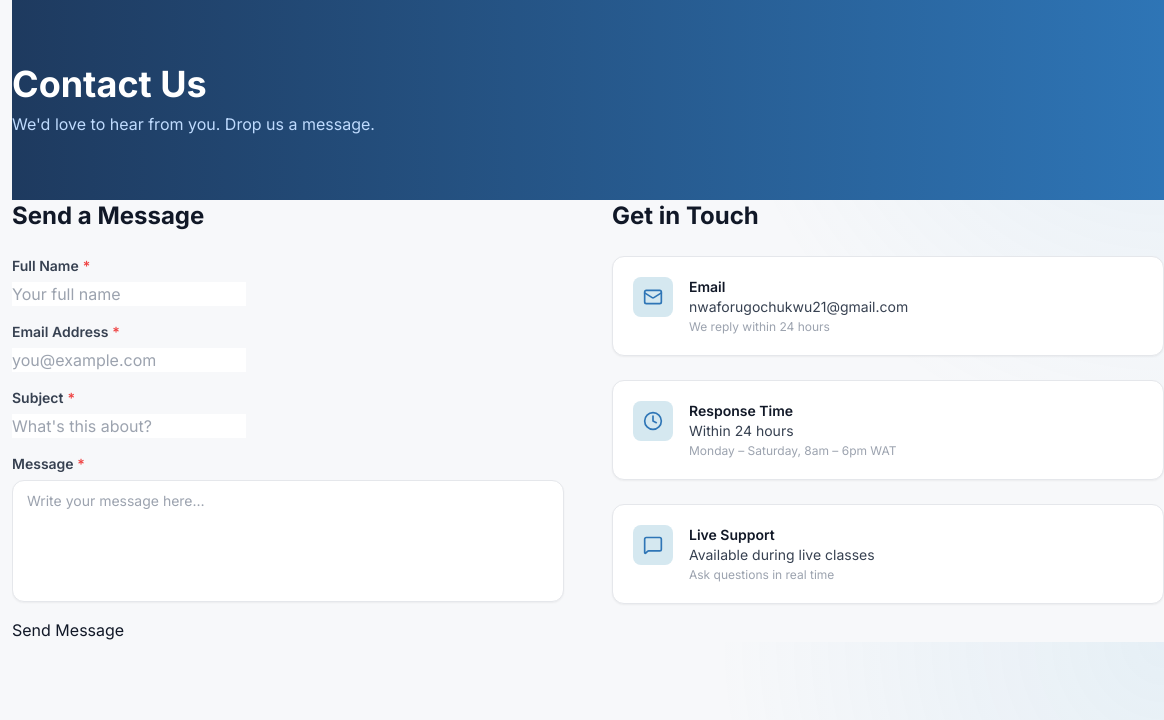
ContactPage › shows message length validation error
Type "Test User" into the field labelled "Full Name*" at (129, 294), box [12,282,246,306]
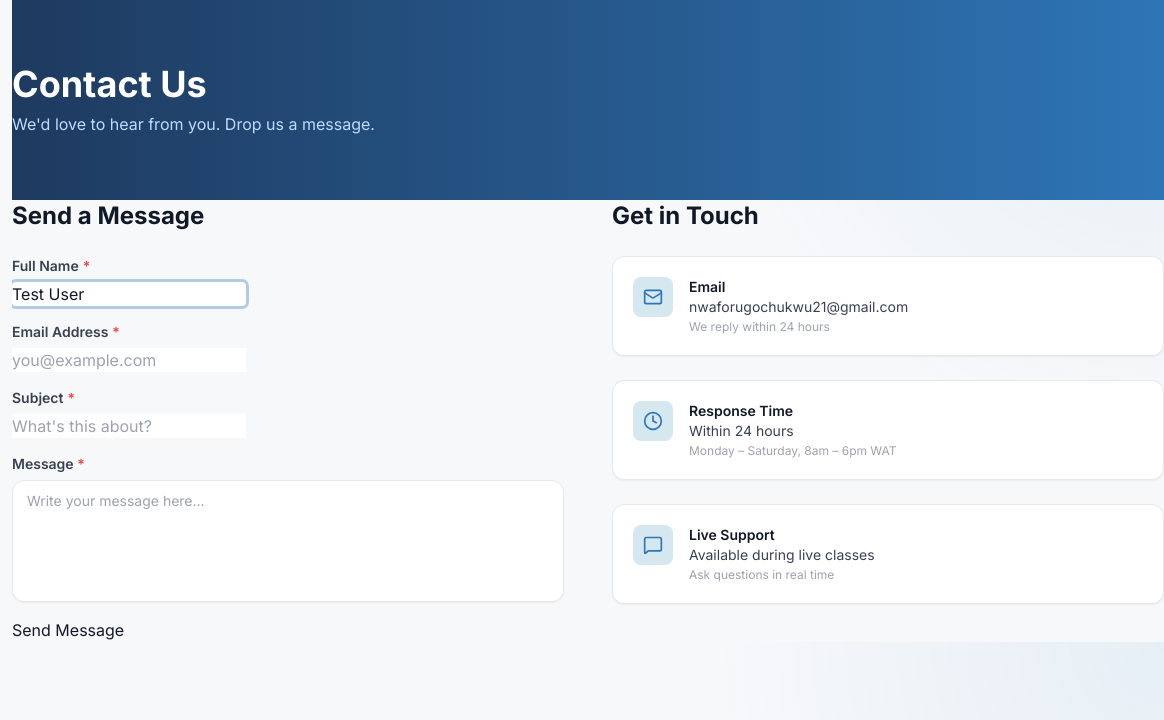
Type "test@example.com" into the field labelled "Email Address*" at (129, 360), box [12,348,246,372]
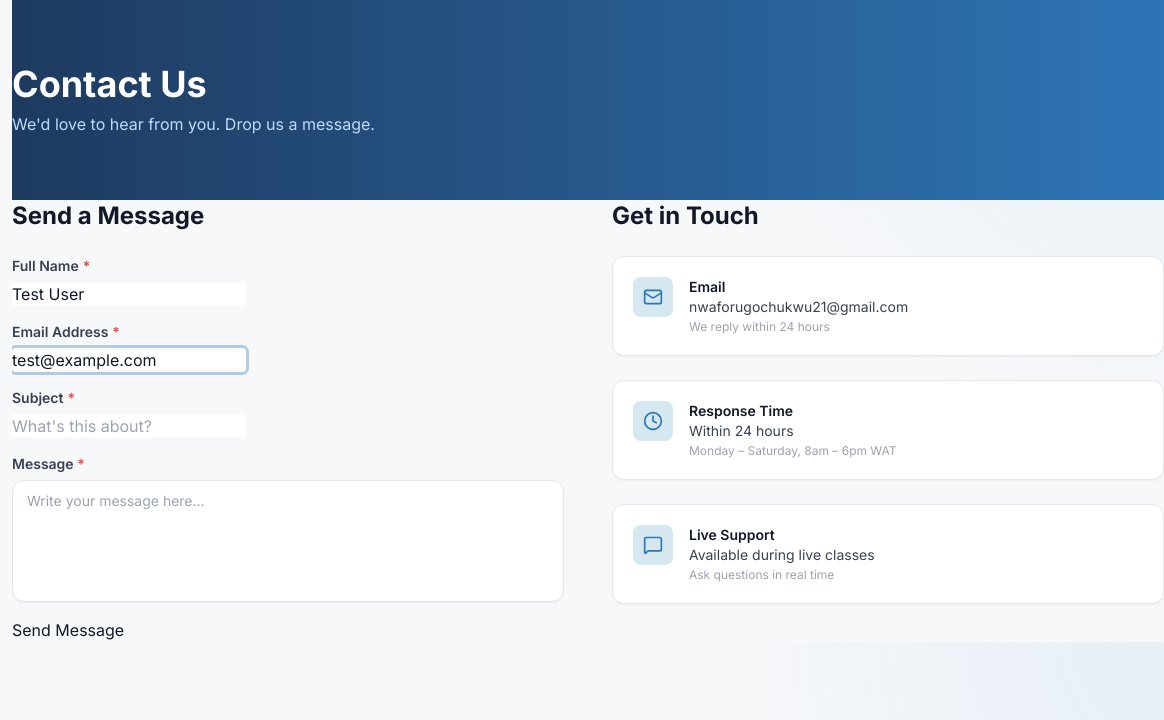
Type "Hi" into the field labelled "Subject*" at (129, 426), box [12,414,246,438]
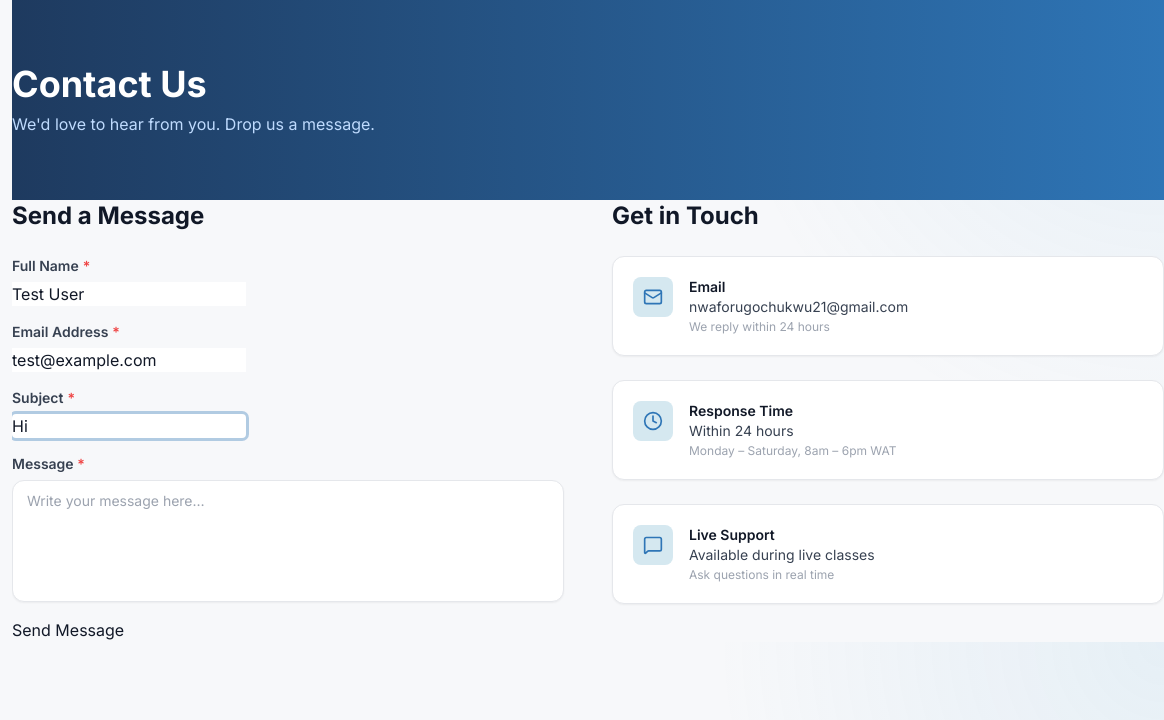
Type "short" into the text box labelled "Message *" at (288, 541), box [12,480,564,602]
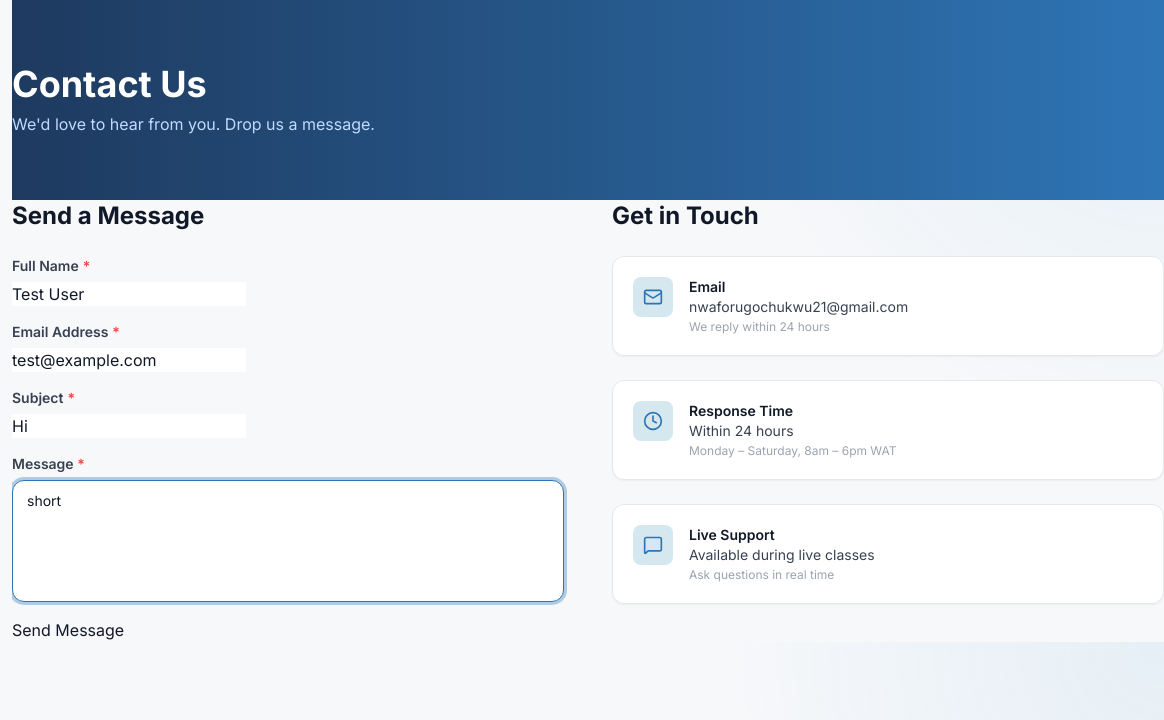
Click the button "Send Message" at (68, 630), box [12,618,124,642]
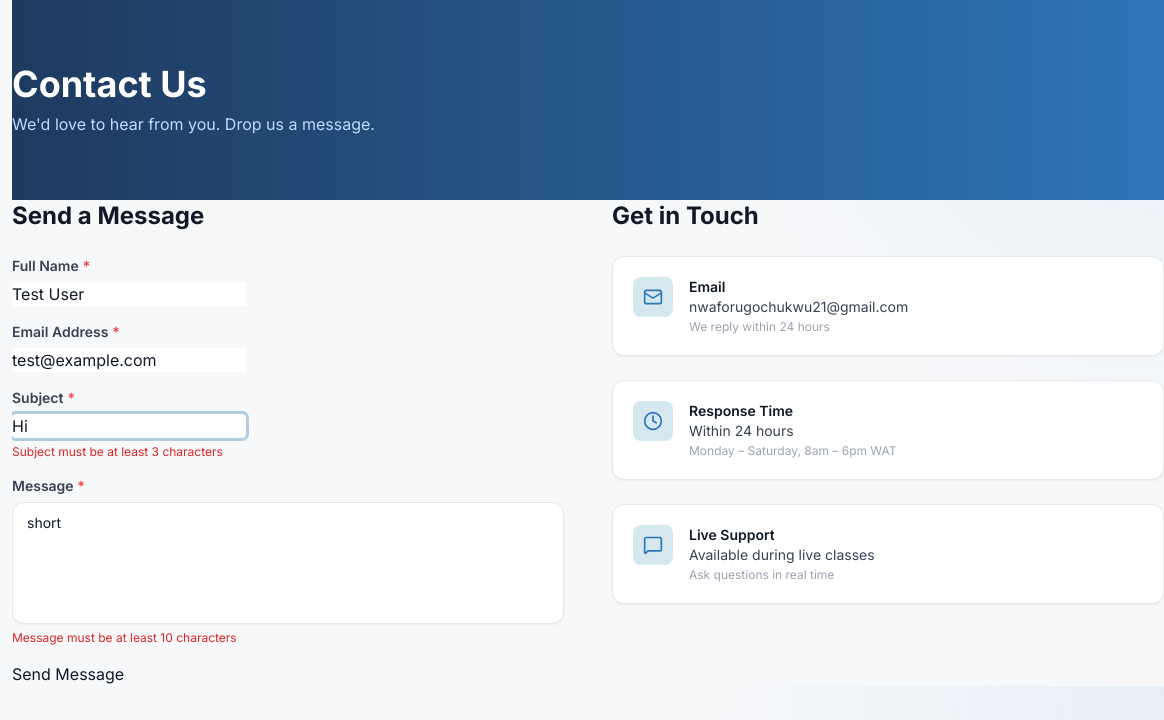
Expected: the text "Message must be at least 10 characters" is shown, [12,630,237,645]
